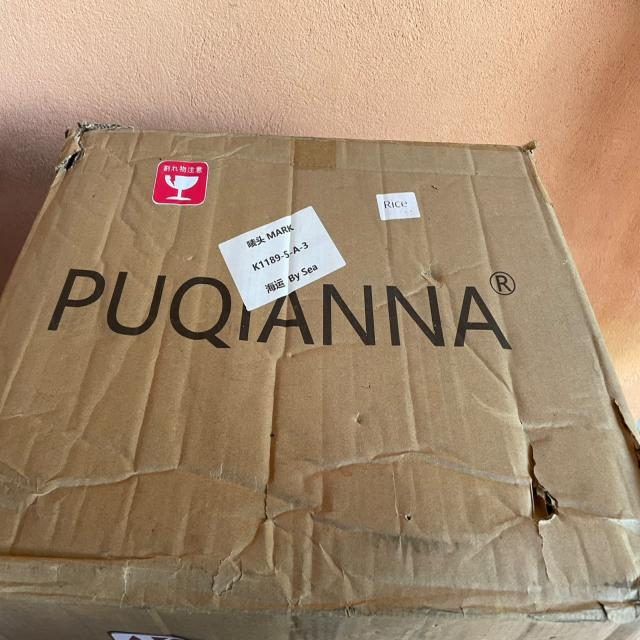carton_box: (0, 83, 640, 640)
export_mark_label: (216, 211, 354, 305)
fragile_label: (149, 146, 217, 220)
package_damage: (151, 439, 334, 636), (492, 420, 640, 634), (39, 91, 138, 198), (494, 115, 569, 182)
